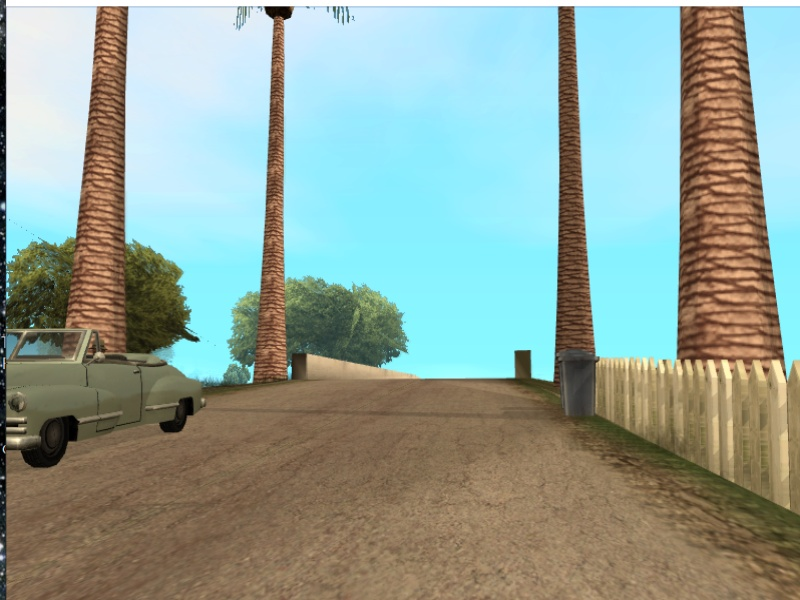tree: (674, 17, 781, 364), (65, 10, 142, 340), (554, 13, 602, 381), (255, 20, 296, 382)
vehicle: (6, 322, 208, 467)
